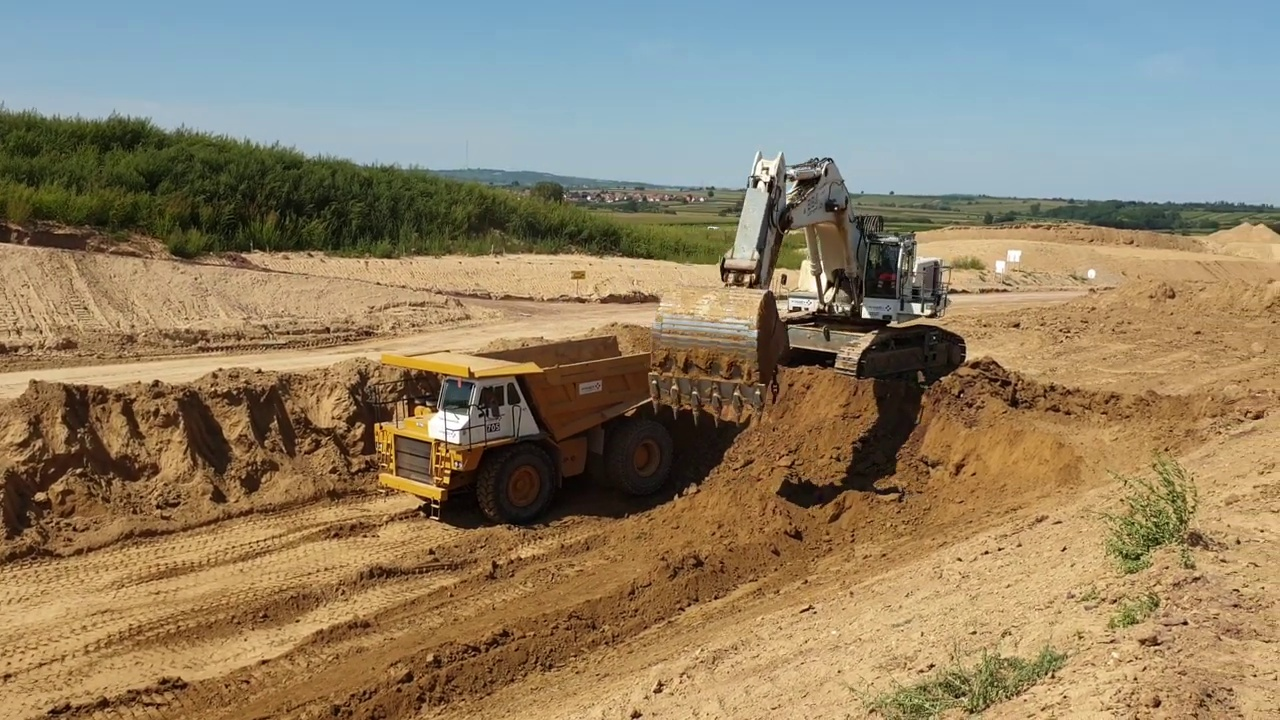excavator: (647, 147, 973, 424)
truck: (360, 331, 694, 528)
